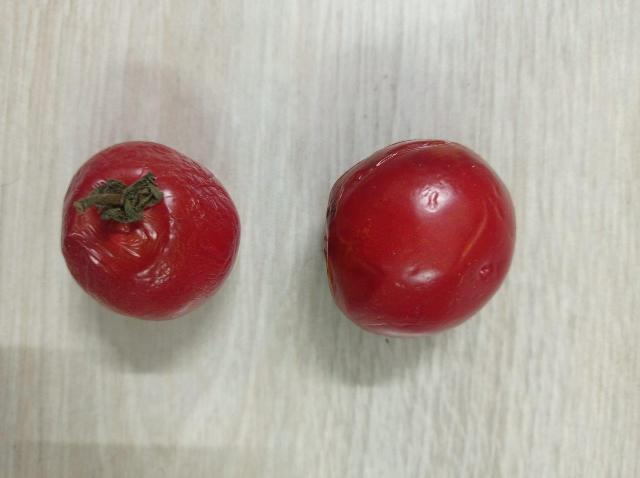defect: (319, 133, 520, 344), (56, 127, 243, 324)
